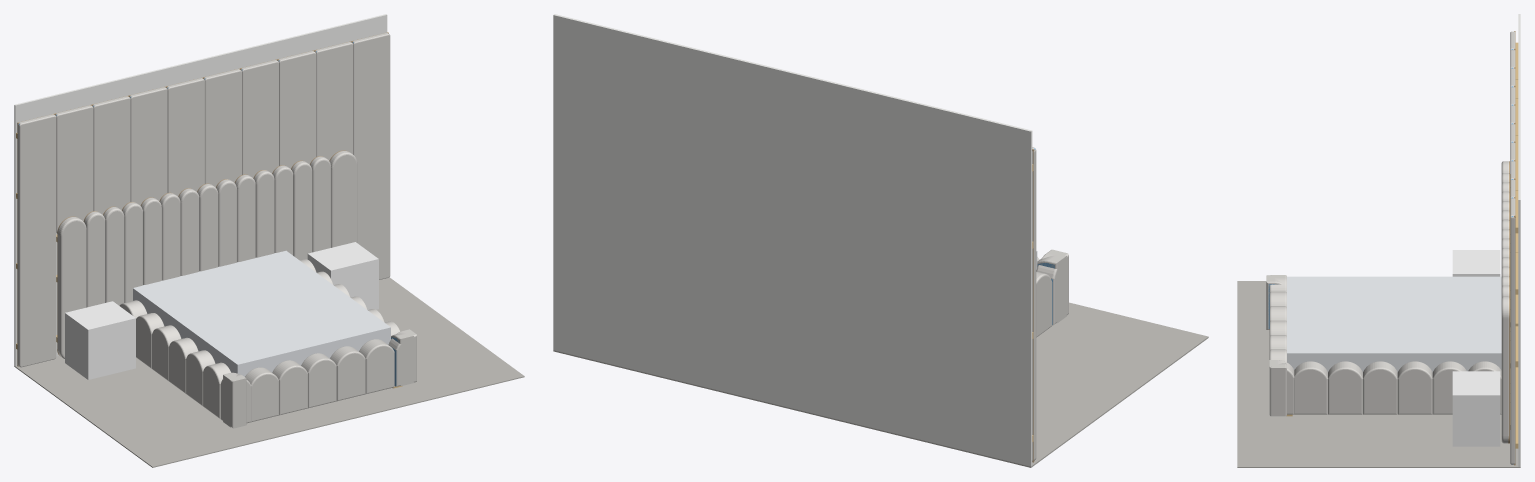
File: cama_canales_140.glb
3 views of the same model, side by side, from view 1: azimuth 30°, elevation 25°; view 2: azimuth 150°, elevation 25°; view 3: azimuth 270°, elevation 25° (orthographic). The views are drawn at different scales.
Parts seen in each view (by area): view 1: Piso, Colchón Queen (referencia), Panel de fondo entero 1 · tela, Pared del cliente, Panel de fondo entero 10 · tela, Mesa de noche (referencia) (×2), Panel de fondo corto 2 · tela, Panel de fondo corto 9 · tela, Panel de fondo corto 5 · tela, Panel de fondo corto 8 · tela, Panel de fondo corto 3 · tela, Panel de fondo corto 4 · tela (+30 smaller); view 2: Pared del cliente, Piso, Panel de fondo entero 1 · tela, Lado izquierdo · rollo 6 · tela, Lado izquierdo · medio rollo de esquina · tela, Frente · medio rollo de esquina · tela; view 3: Colchón Queen (referencia), Piso, Mesa de noche (referencia) (×2), Lado derecho · rollo 5 · tela, Lado derecho · rollo 3 · tela, Lado derecho · rollo 4 · tela, Lado derecho · rollo 2 · tela, Panel de fondo entero 10 · tela, Pared del cliente, Remate derecho · tela, Lado derecho · rollo 6 · tela, Frente · medio rollo de esquina · tela (+2 smaller).
Boxes of the visible parts, x1,y1,x2,y2 form: Piso: [14, 277, 524, 467]; Colchón Queen (referencia): [133, 250, 390, 376]; Panel de fondo entero 1 · tela: [17, 114, 56, 367]; Pared del cliente: [14, 14, 387, 366]; Panel de fondo entero 10 · tela: [352, 32, 390, 279]; Mesa de noche (referencia) (×2): [65, 242, 378, 379]; Panel de fondo corto 2 · tela: [55, 105, 93, 233]; Panel de fondo corto 9 · tela: [315, 42, 353, 160]; Panel de fondo corto 5 · tela: [167, 78, 204, 196]; Panel de fondo corto 8 · tela: [278, 51, 316, 168]; Panel de fondo corto 3 · tela: [92, 96, 130, 214]; Panel de fondo corto 4 · tela: [129, 87, 167, 205]; Pared del cliente: [553, 14, 1032, 466]; Piso: [553, 302, 1208, 467]; Panel de fondo entero 1 · tela: [1032, 147, 1036, 460]; Lado izquierdo · rollo 6 · tela: [1036, 271, 1052, 337]; Lado izquierdo · medio rollo de esquina · tela: [1036, 249, 1068, 325]; Frente · medio rollo de esquina · tela: [1037, 254, 1066, 323]; Colchón Queen (referencia): [1287, 276, 1501, 371]; Piso: [1237, 281, 1520, 467]; Mesa de noche (referencia) (×2): [1452, 250, 1500, 446]; Lado derecho · rollo 5 · tela: [1397, 361, 1432, 414]; Lado derecho · rollo 3 · tela: [1328, 361, 1362, 414]; Lado derecho · rollo 4 · tela: [1363, 361, 1397, 414]; Lado derecho · rollo 2 · tela: [1294, 361, 1327, 414]; Panel de fondo entero 10 · tela: [1510, 198, 1515, 464]; Pared del cliente: [1518, 14, 1520, 466]; Remate derecho · tela: [1501, 296, 1508, 443]; Lado derecho · rollo 6 · tela: [1432, 361, 1466, 414]; Frente · medio rollo de esquina · tela: [1269, 363, 1286, 416].
Bounding box in the file's own units: 3.88 × 2.61 × 2.5.
